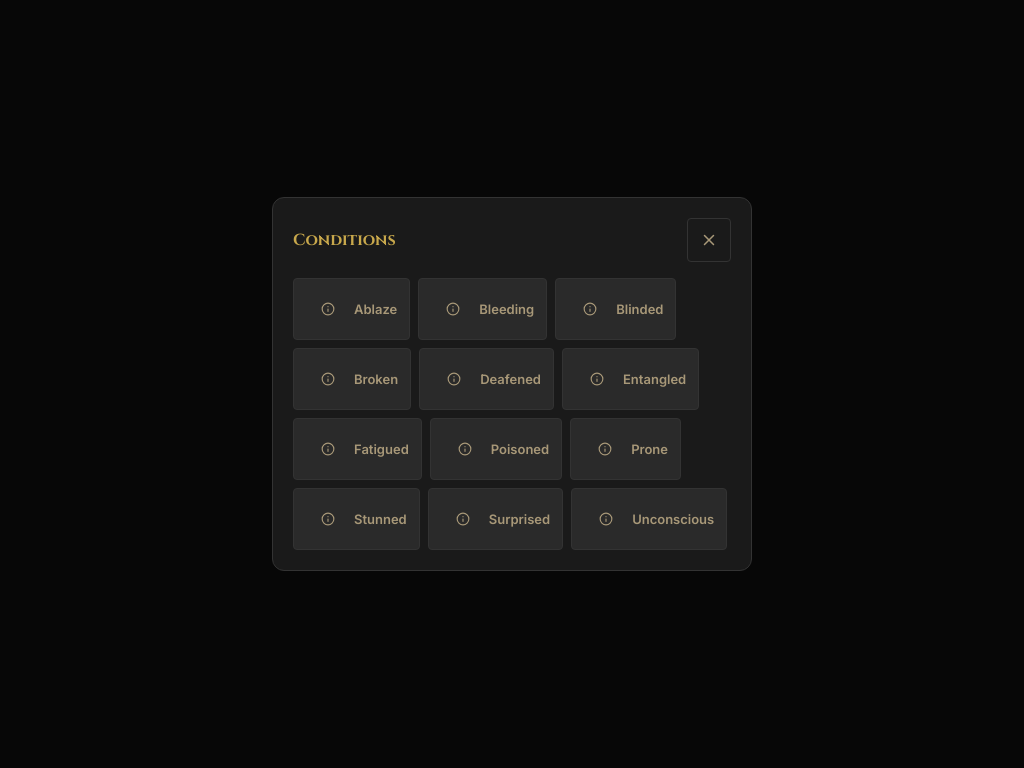
Scenario: ConditionPicker — Info Tooltip › opens tooltip when info button is clicked
The image size is (1024, 768).
Click the button named "Info for Ablaze" at (328, 309), box [306, 287, 350, 331]
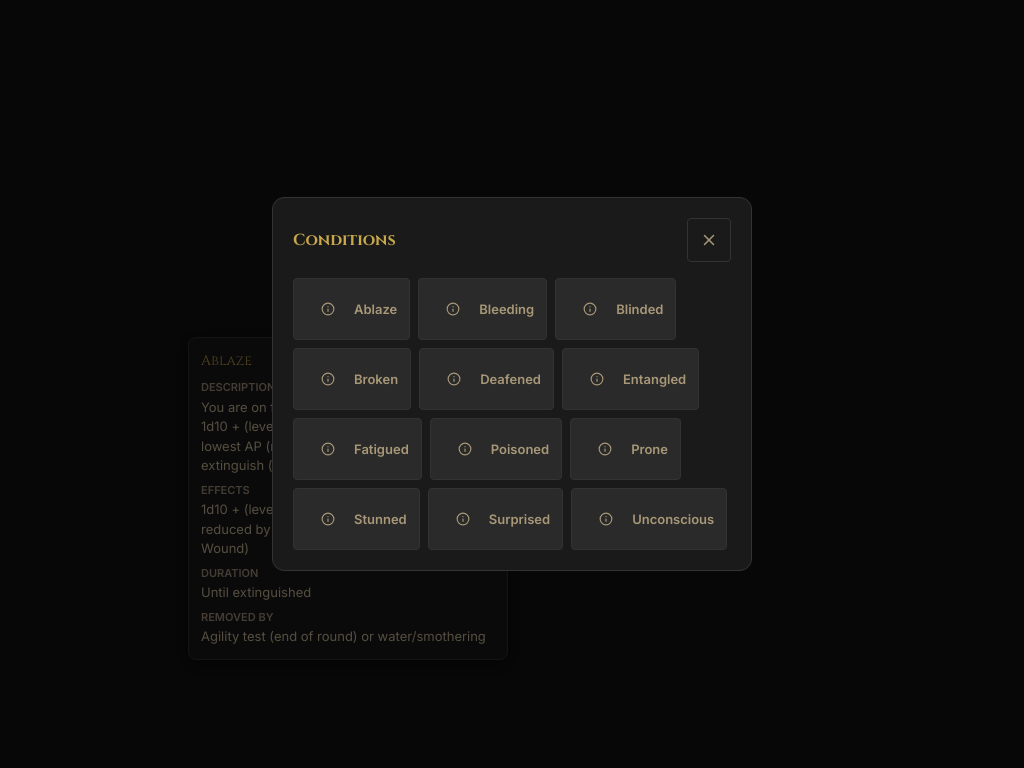
Expected: the tooltip is shown, [188, 337, 508, 660]
Expected: the tooltip shows "Ablaze", [201, 351, 252, 370]
